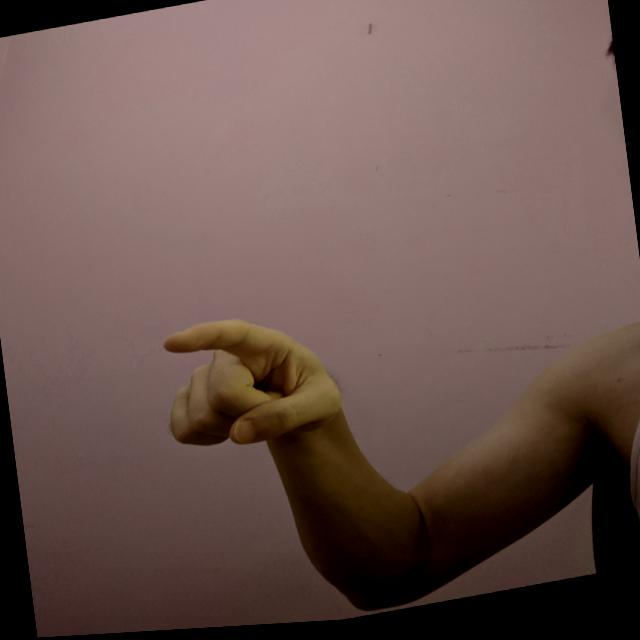Z: (146, 299, 352, 467)
